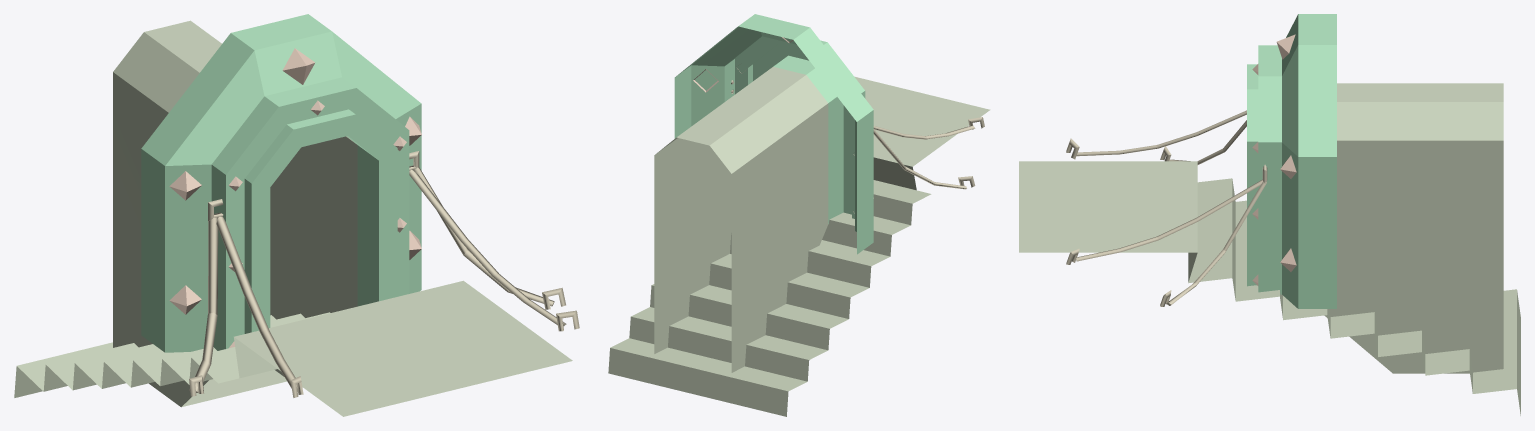
3 views of the same model, side by side, from view 1: azimuth 30°, elevation 25°; view 2: azimuth 150°, elevation 25°; view 3: azimuth 270°, elevation 25° (orthographic). The views are drawn at different scales.
Visible parts, largest first — view 1: Object86; view 2: Object86; view 3: Object86.
Boxes of the visible parts, box(x1,y1,x2,y2) form: Object86: box(14, 14, 579, 416); Object86: box(608, 14, 990, 416); Object86: box(1019, 14, 1520, 415).
Size of the model in its own units: 382 by 411 by 543.
